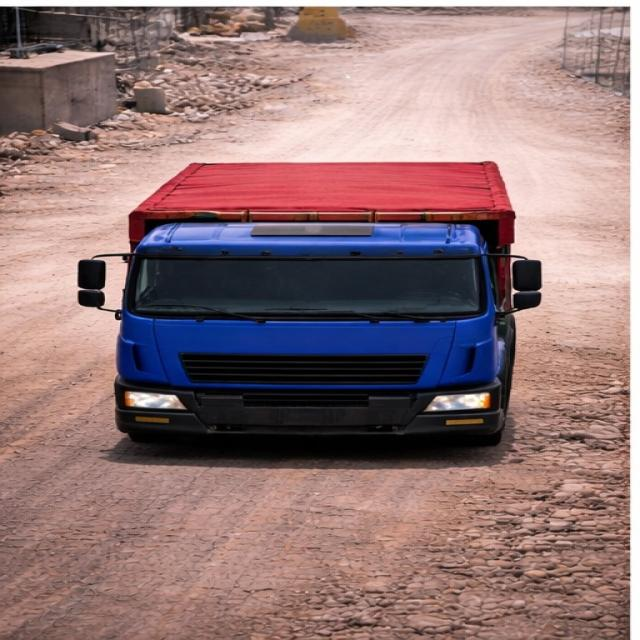Box: (122, 152, 520, 218)
Truck: (74, 138, 551, 456)
